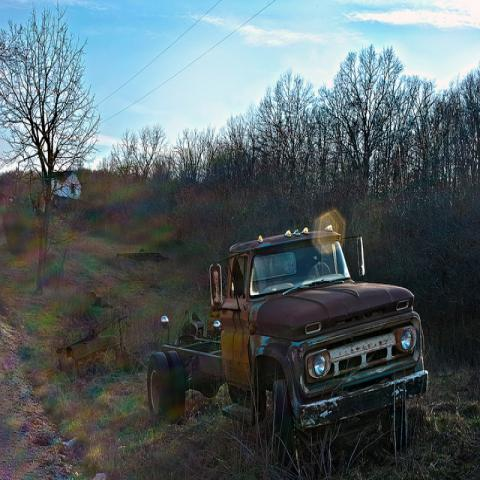truck: (149, 230, 428, 463)
